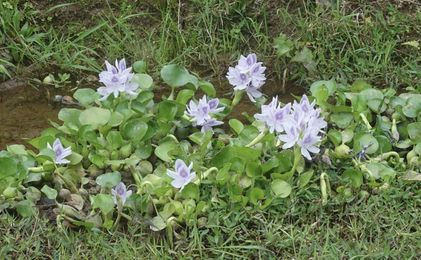water_hyacinth: (0, 54, 421, 213)
